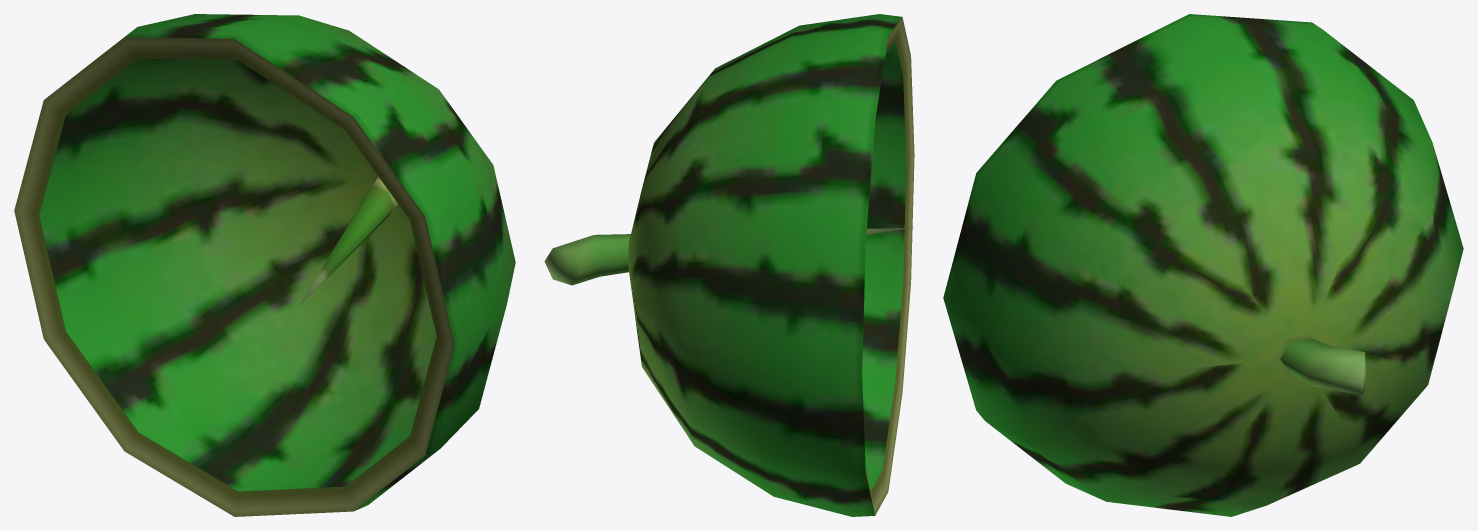
The model's file is cap_fruit_watermelon.dae.
3 renders of one model, left to right at view 1: azimuth 30°, elevation 25°; view 2: azimuth 150°, elevation 25°; view 3: azimuth 270°, elevation 25°, orthographic. The views are drawn at different scales.
Visible parts, largest first — view 1: cap_fruit_watermelon; view 2: cap_fruit_watermelon; view 3: cap_fruit_watermelon.
Part boxes in pixels (box(x1,y1,x2,y2)): cap_fruit_watermelon: box(14, 14, 515, 516); cap_fruit_watermelon: box(544, 14, 914, 516); cap_fruit_watermelon: box(943, 14, 1463, 516).
Bounding box in the file's own units: 18.96 × 23.63 × 23.29.
Materials: 1 (1 with a texture image).
